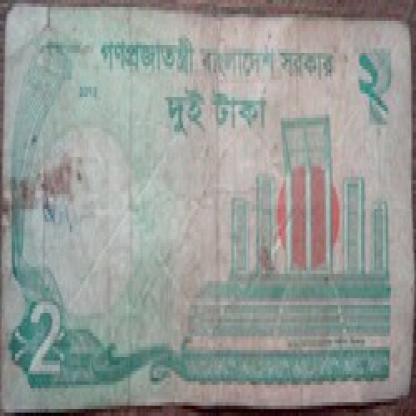two taka: (26, 277, 72, 402)
